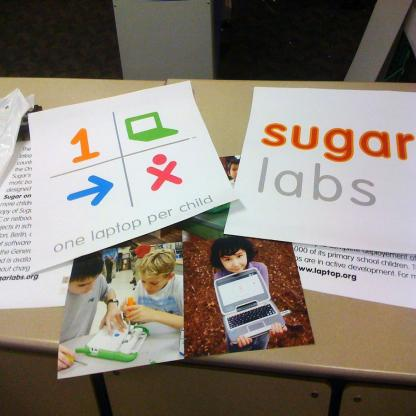board: (212, 267, 286, 345)
